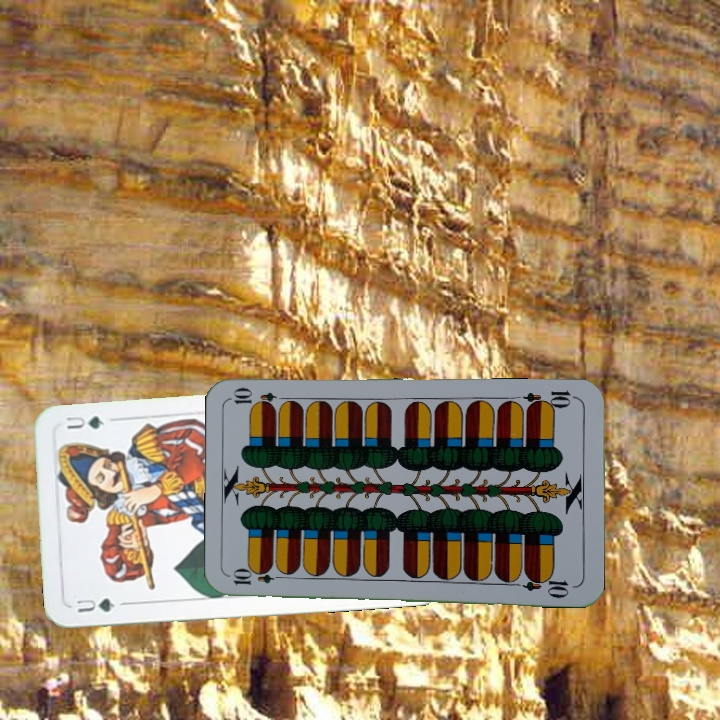E10: (520, 387, 579, 413), (229, 569, 288, 587)
GU: (72, 593, 118, 616)
